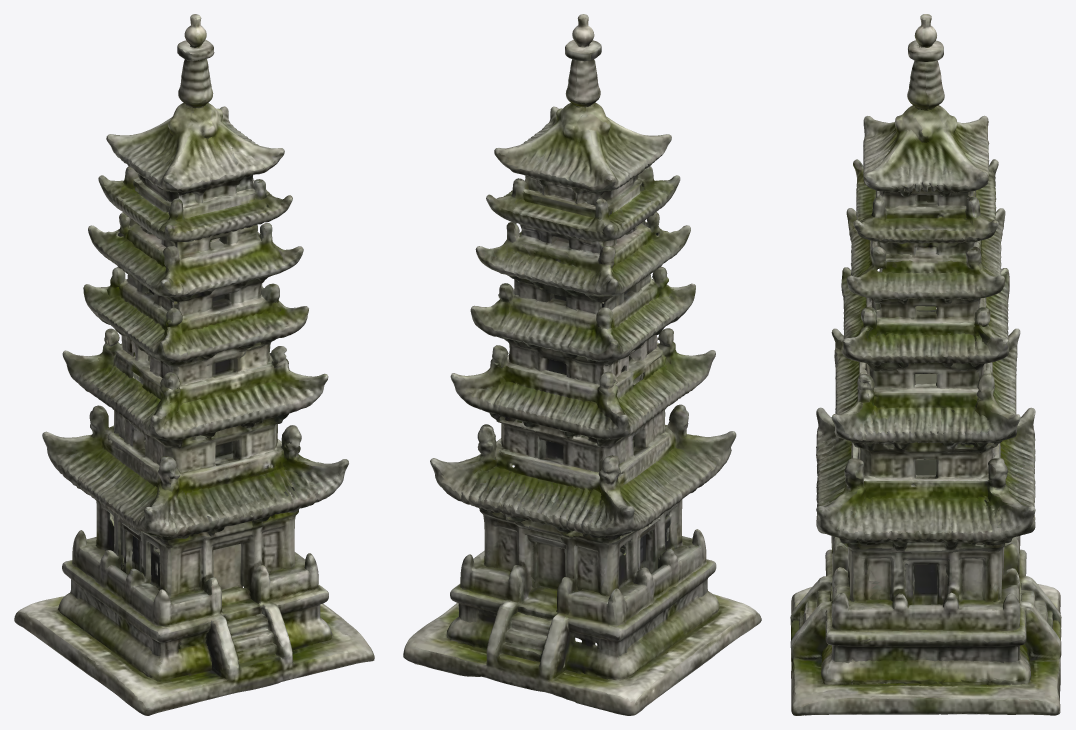
The model's file is stone-pagoda.glb.
3 views of the same model, side by side, from view 1: azimuth 30°, elevation 25°; view 2: azimuth 150°, elevation 25°; view 3: azimuth 270°, elevation 25° (orthographic). The views are drawn at different scales.
Visible parts, largest first — view 1: geometry_0; view 2: geometry_0; view 3: geometry_0.
Part boxes in pixels (left/top/right/bottom): geometry_0: left=14, top=14, right=374, bottom=715; geometry_0: left=403, top=14, right=761, bottom=715; geometry_0: left=790, top=14, right=1061, bottom=715.
Bounding box in the file's own units: 0.2562 × 0.65 × 0.2472.
Materials: 1 (1 with a texture image).
